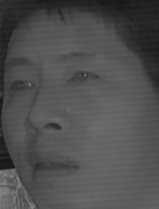eye: (67, 67, 99, 90), (9, 75, 36, 94)
mouth: (27, 147, 80, 181)
